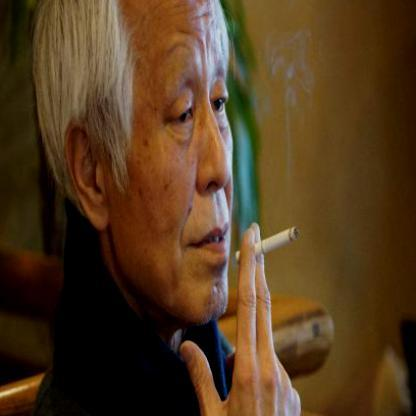cigarette: (233, 224, 300, 266)
person: (28, 0, 255, 415)
